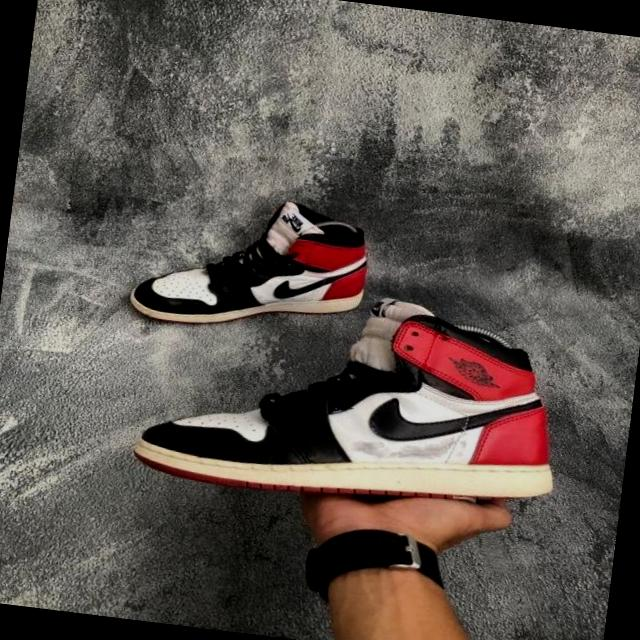nike_fake_jordan: (128, 263, 576, 524), (115, 180, 372, 348)
